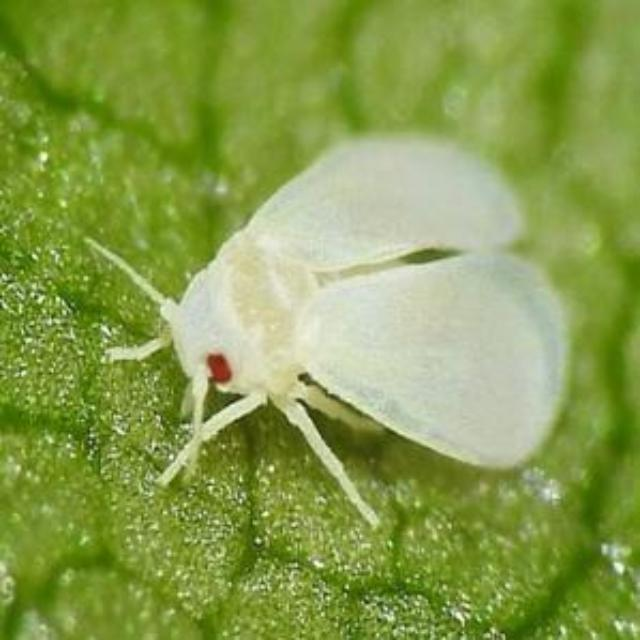Silverleaf whitefly: (63, 95, 589, 577)
